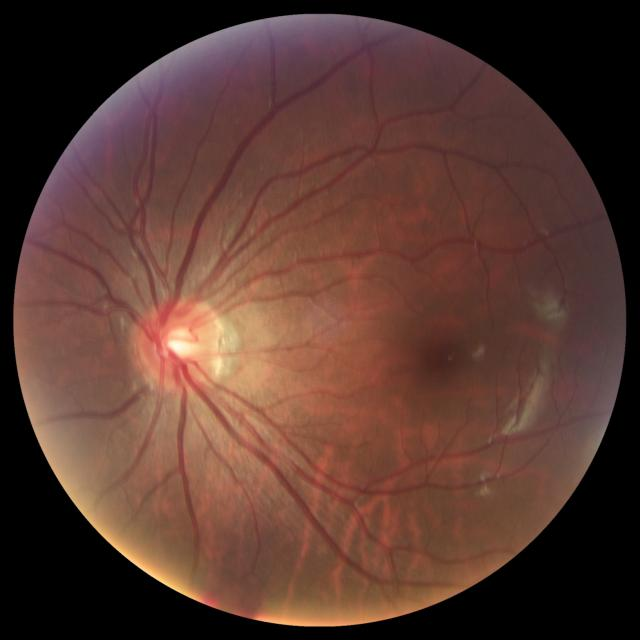OC: (159, 324, 196, 360)
OD: (134, 296, 228, 395)
